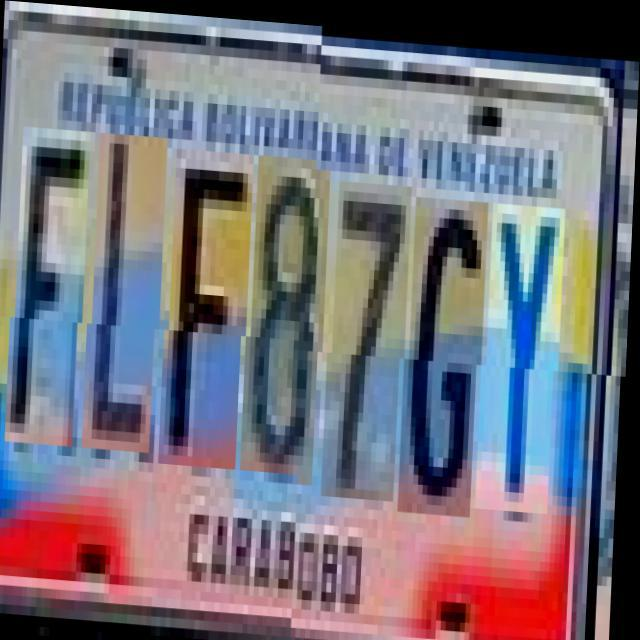7: (330, 175, 413, 495)
8: (249, 160, 332, 480)
F: (167, 155, 255, 475), (13, 136, 92, 455)
G: (407, 190, 490, 510)
L: (90, 141, 169, 460)
Y: (484, 195, 567, 504)
